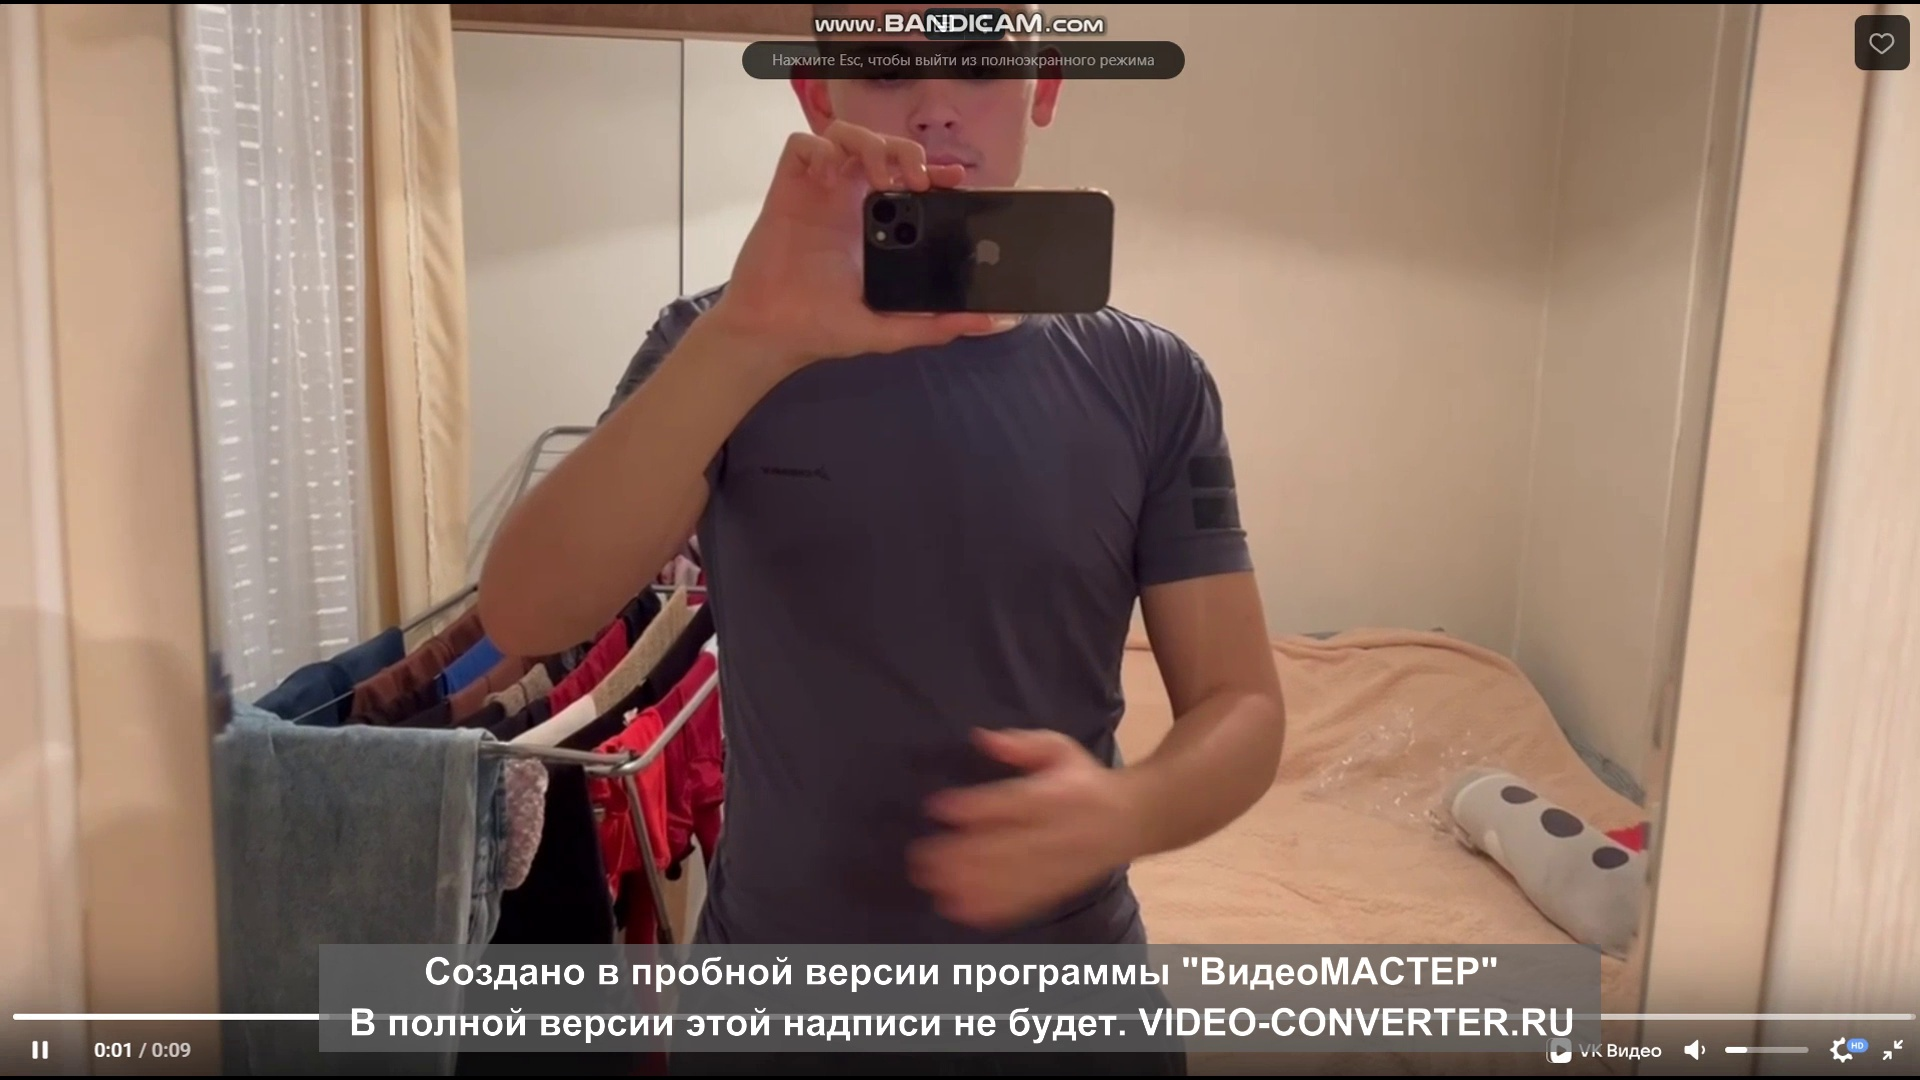Кисть: (901, 708, 1102, 930)
